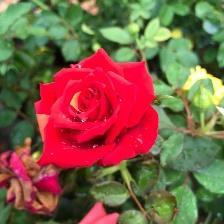rose: (33, 48, 161, 170)
